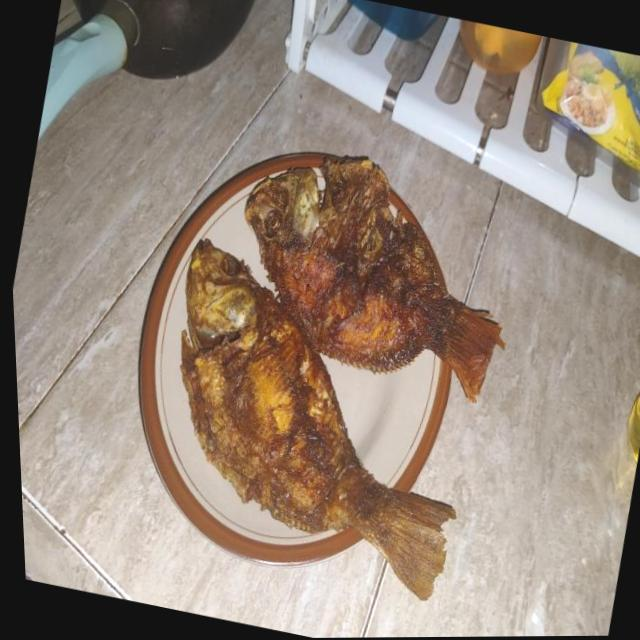ikan_mujair: (180, 238, 455, 599), (244, 156, 503, 402)
